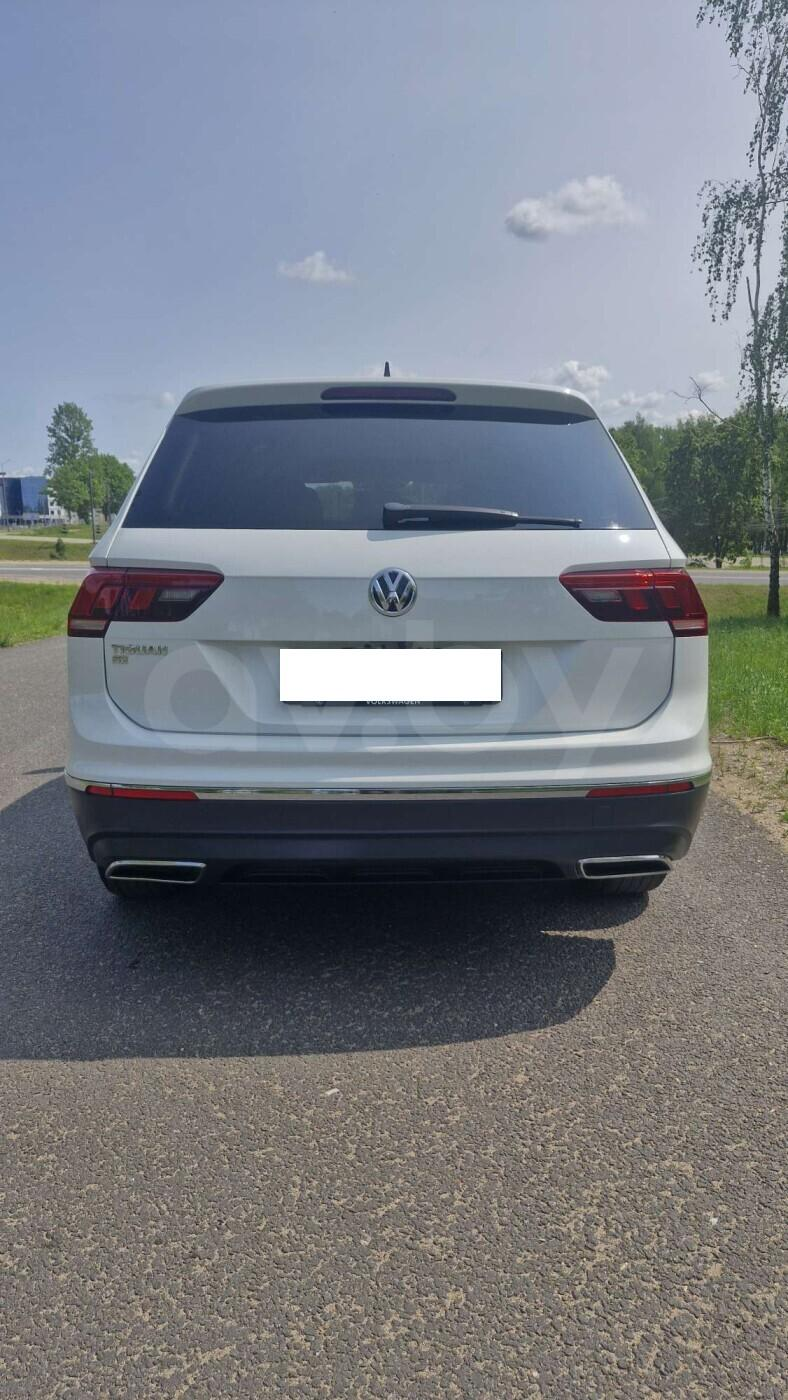Tiguan_2016-2021: (62, 372, 716, 920)
